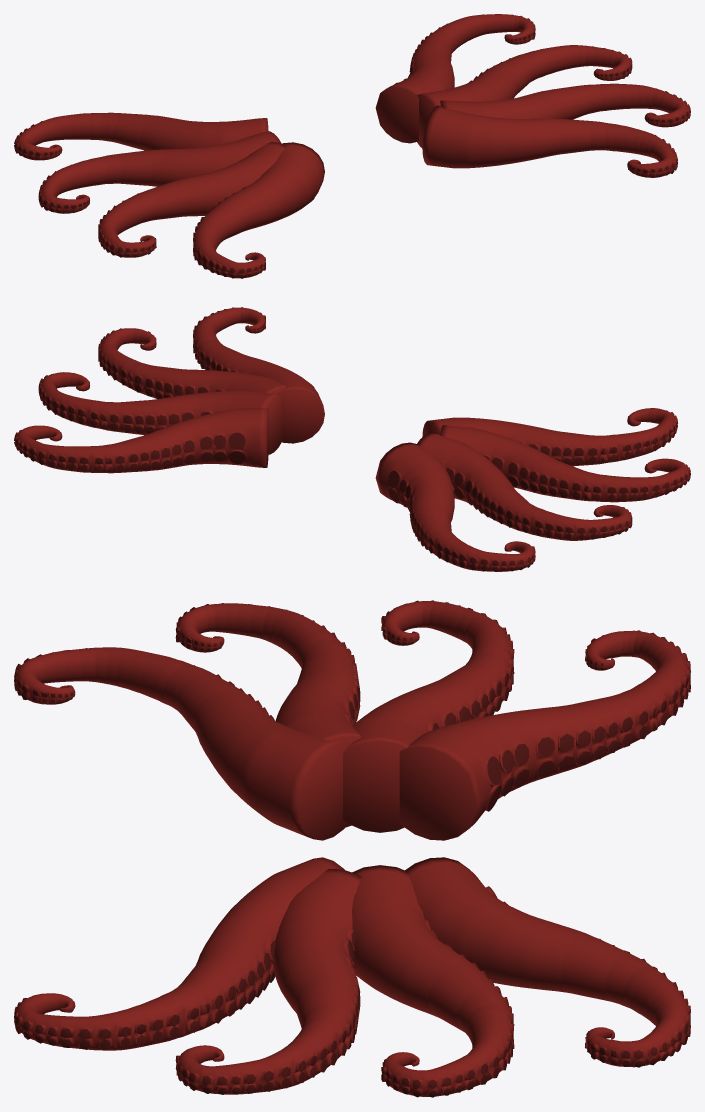
File: tentacleSensor.obj
3 views of the same model, one above another, from view 1: azimuth 30°, elevation 25°; view 2: azimuth 150°, elevation 25°; view 3: azimuth 270°, elevation 25° (orthographic). The views are drawn at different scales.
Visible parts, largest first — view 1: pCylinder19; view 2: pCylinder19; view 3: pCylinder19.
Part boxes in pixels (left/top/right/bottom): pCylinder19: left=14, top=14, right=690, bottom=278; pCylinder19: left=14, top=307, right=690, bottom=571; pCylinder19: left=14, top=600, right=690, bottom=1097.
Size of the model in its own units: 88.19 by 7.82 by 52.41.
